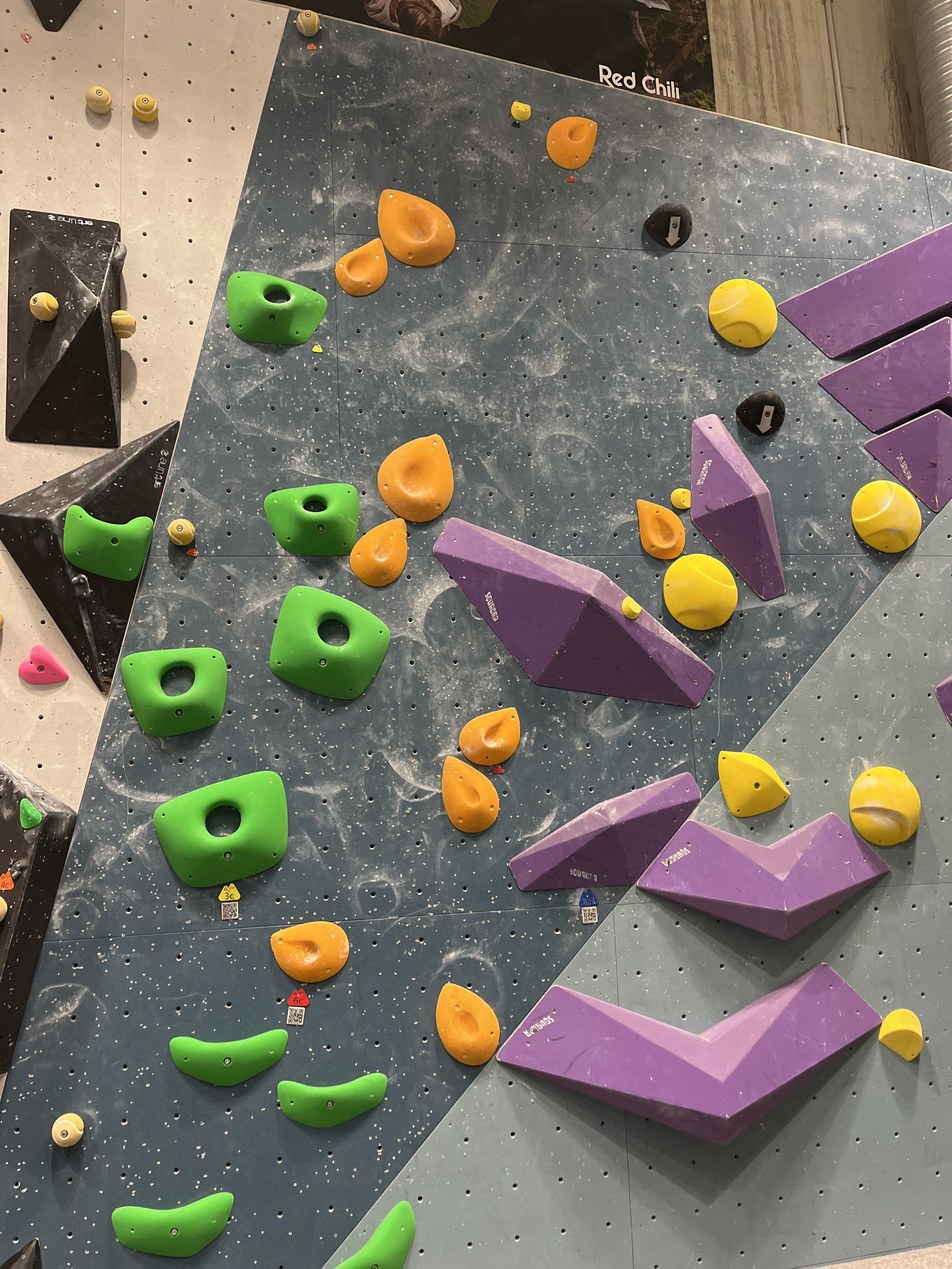hold: (498, 964, 880, 1143), (434, 519, 713, 707), (637, 813, 889, 939), (778, 225, 952, 357), (510, 774, 700, 891), (691, 415, 785, 599), (819, 317, 952, 433), (153, 772, 288, 886), (269, 586, 390, 699), (121, 647, 227, 737), (865, 410, 952, 511), (112, 1192, 233, 1257), (226, 271, 326, 345), (264, 483, 359, 556), (63, 505, 154, 581), (170, 1029, 287, 1086), (378, 434, 453, 522), (278, 1072, 387, 1128), (378, 189, 455, 266), (850, 766, 921, 847), (664, 555, 738, 630), (338, 1201, 415, 1269), (436, 983, 499, 1065), (851, 480, 921, 553), (718, 751, 789, 817), (271, 922, 349, 982), (709, 279, 776, 346), (442, 757, 498, 832), (350, 518, 407, 586), (459, 707, 520, 766), (335, 238, 387, 295), (637, 499, 685, 559), (547, 117, 597, 169), (878, 1008, 923, 1061), (736, 391, 785, 436), (644, 203, 692, 247), (18, 645, 68, 684), (52, 1112, 84, 1148), (30, 292, 58, 321), (936, 674, 952, 724), (168, 518, 195, 546), (86, 86, 112, 115), (111, 310, 136, 339), (133, 94, 158, 122), (20, 798, 42, 828), (111, 241, 127, 273), (622, 596, 642, 620), (73, 573, 91, 598), (671, 488, 691, 510), (9, 858, 27, 881), (511, 101, 531, 121), (0, 897, 7, 922), (897, 1024, 898, 1024), (745, 315, 745, 315), (337, 515, 337, 516), (129, 326, 129, 326), (360, 271, 360, 272)
volume: (0, 419, 181, 698), (5, 207, 121, 448), (0, 758, 79, 1075), (30, 0, 83, 32), (0, 1237, 44, 1269)
